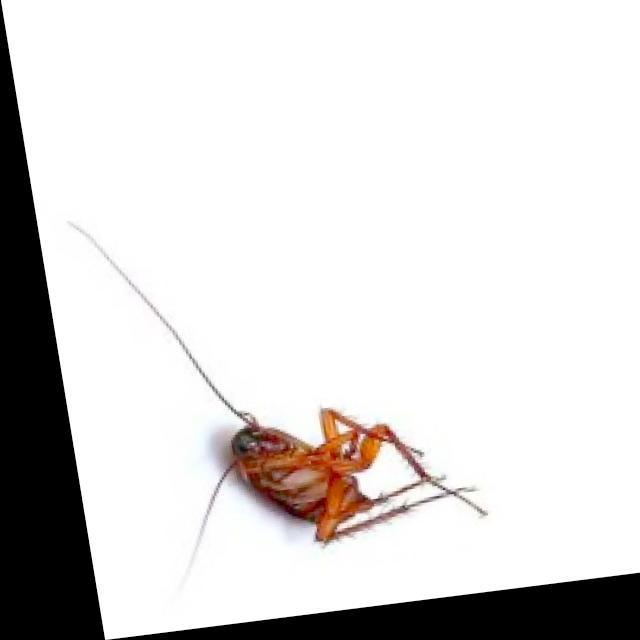cockroach: (230, 406, 393, 527)
